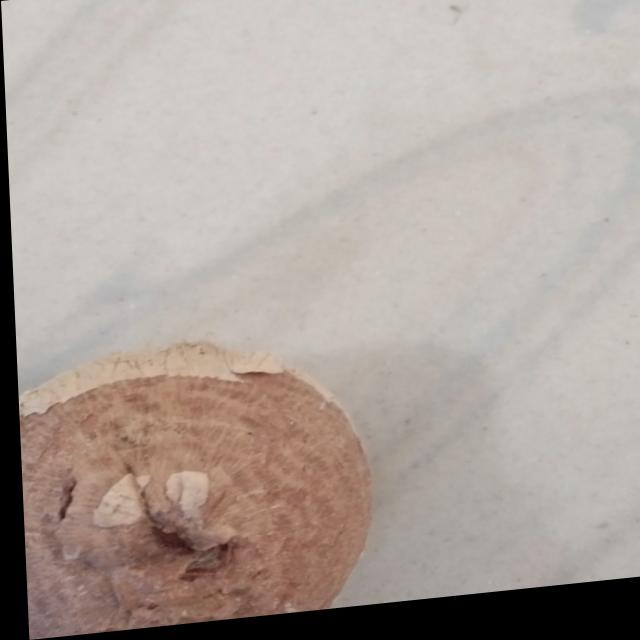phatora: (11, 293, 442, 640)
